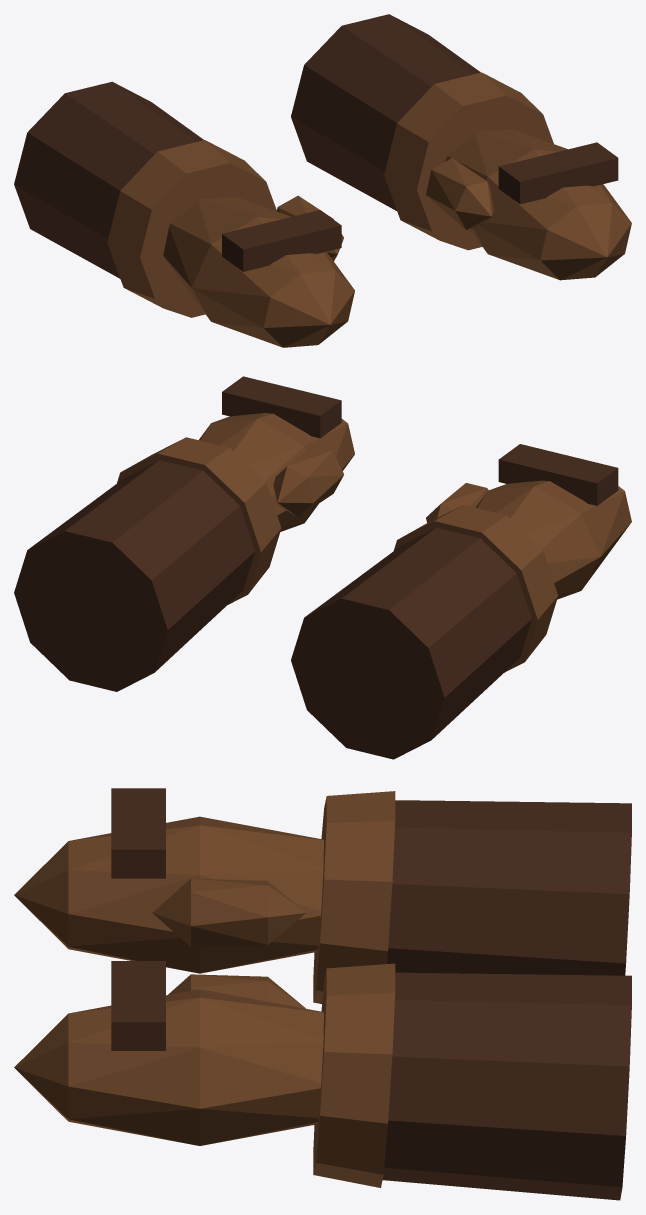
The model's file is drop_gloves_hard.glb.
The picture shows the model from 3 angles, top to bottom: view 1: azimuth 30°, elevation 25°; view 2: azimuth 150°, elevation 25°; view 3: azimuth 270°, elevation 25°; orthographic projection. The views are drawn at different scales.
Visible parts, largest first — view 1: drop_gloves_hard; view 2: drop_gloves_hard; view 3: drop_gloves_hard.
Part boxes in pixels (bbox=[...]): drop_gloves_hard: bbox=[14, 14, 631, 347]; drop_gloves_hard: bbox=[14, 376, 631, 759]; drop_gloves_hard: bbox=[14, 788, 631, 1200].
Bounding box in the file's own units: 0.224 × 0.0807 × 0.2181.
